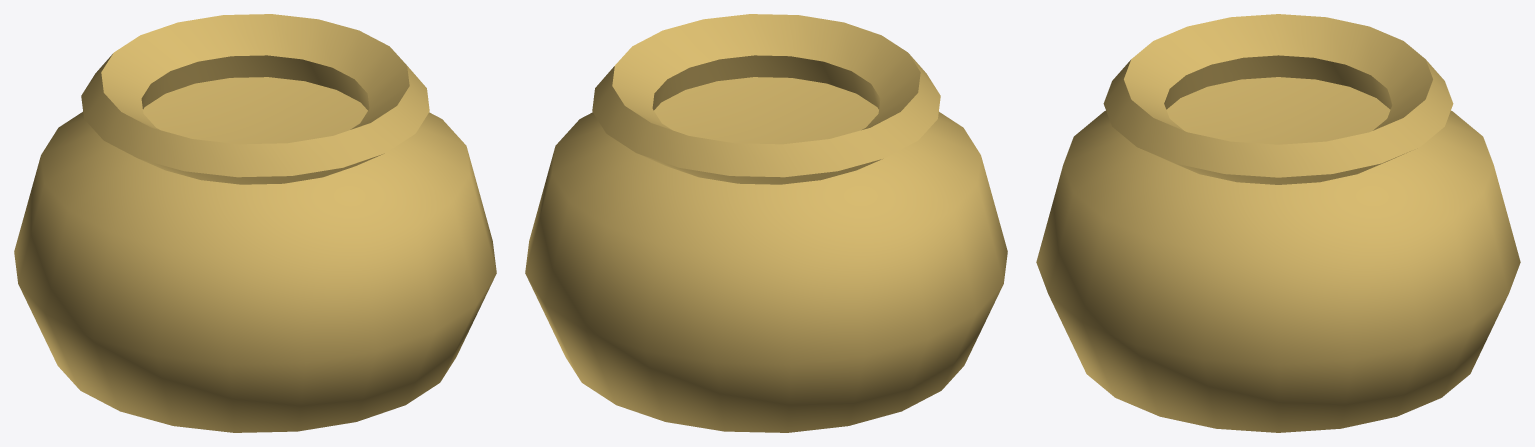
Rendered from wild-west-frontier-town-brass-spittoon-f1c43b33__30117.glb.
3 views of the same model, side by side, from view 1: azimuth 30°, elevation 25°; view 2: azimuth 150°, elevation 25°; view 3: azimuth 270°, elevation 25° (orthographic).
Visible parts, largest first — view 1: brass-spittoon; view 2: brass-spittoon; view 3: brass-spittoon.
Boxes of the visible parts, x1=… form: brass-spittoon: x1=14, y1=14, x2=496, y2=432; brass-spittoon: x1=525, y1=14, x2=1007, y2=432; brass-spittoon: x1=1036, y1=14, x2=1520, y2=432.
Size of the model in its own units: 0.36 by 0.24 by 0.36.
